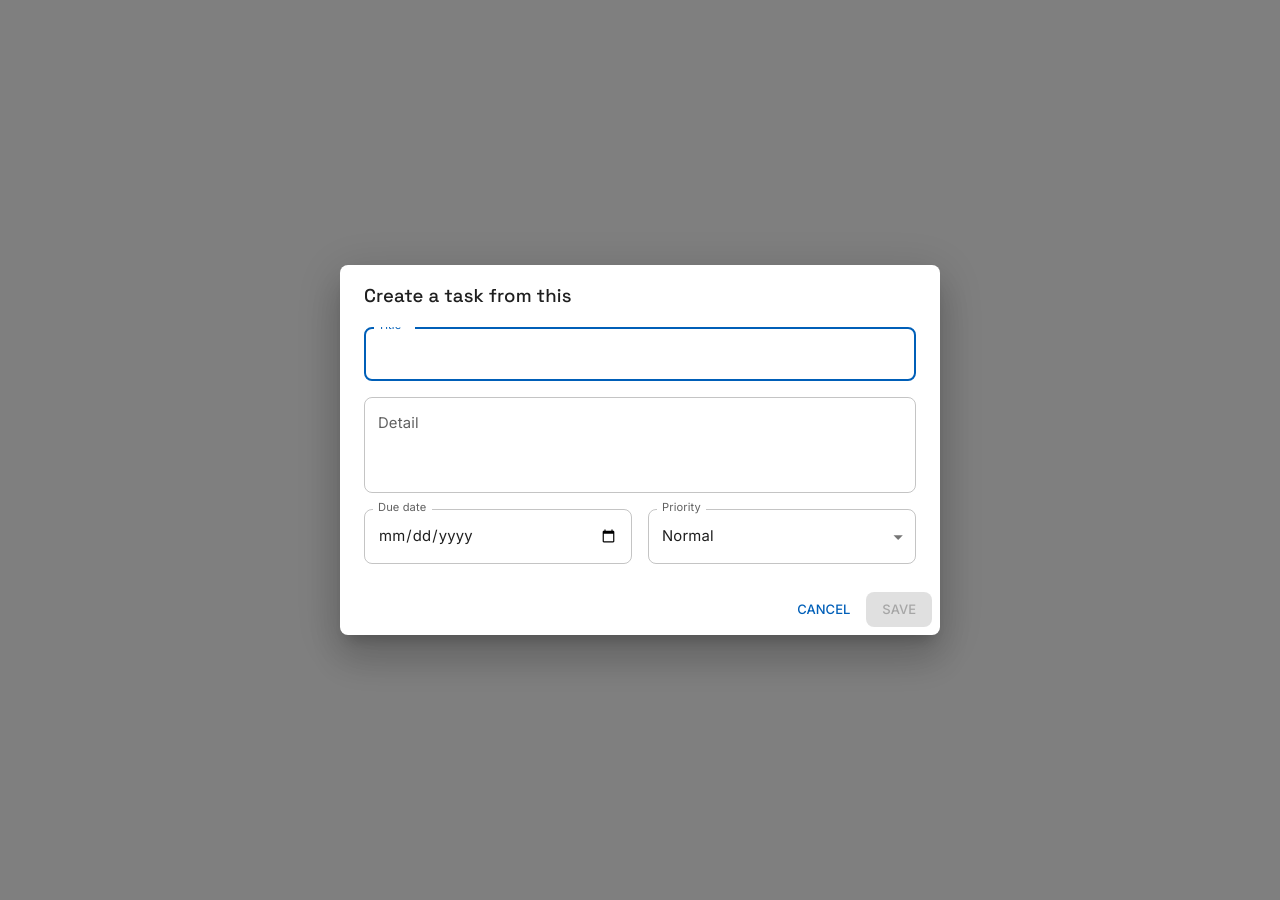
TaskDraftModal › disables Save when the title is empty
Expected: the button "Save" is disabled, [866,592,932,627]
Type "x" into the field labelled "Title" at {"x": 640, "y": 354}, box [364,327,916,381]
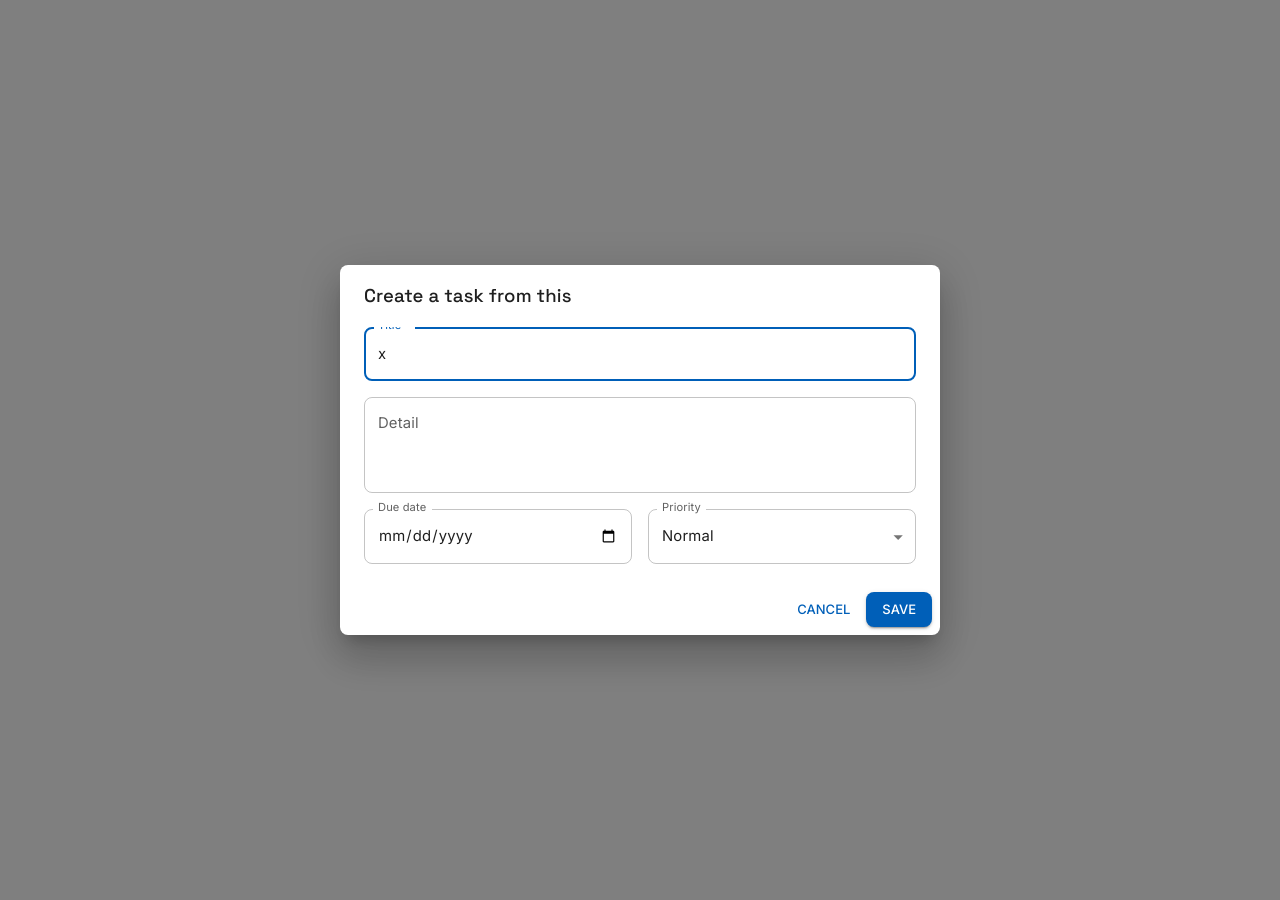
Now the button "Save" is enabled, box [866,592,932,627]
